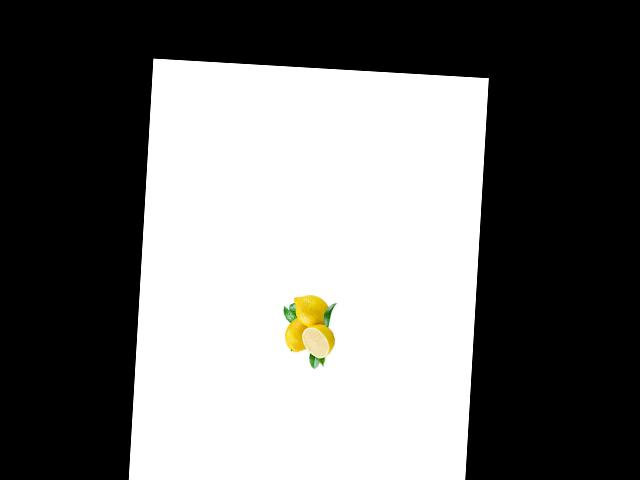lemon: (288, 291, 333, 329)
